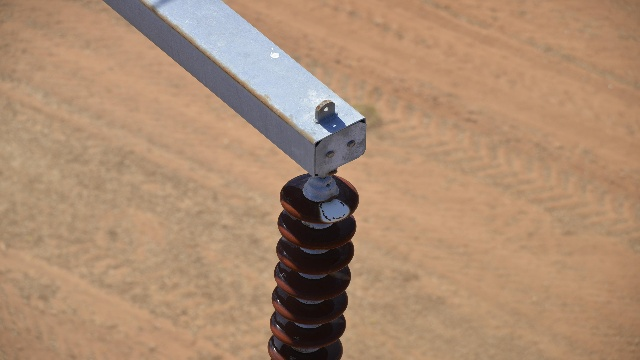insulator_unspecified: (268, 174, 358, 359)
pollution_flashover_local: (317, 196, 351, 224)
